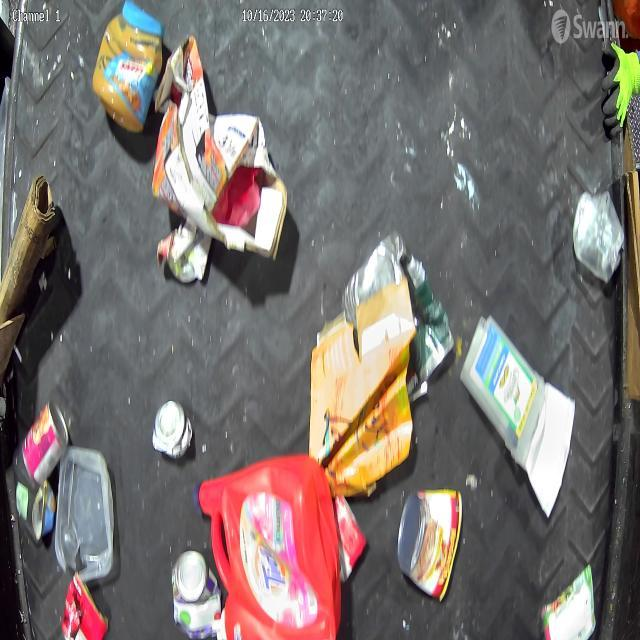can: (397, 482, 462, 608), (18, 397, 72, 494), (168, 544, 220, 640), (14, 467, 59, 549), (151, 392, 194, 470)
non_white_jug: (198, 456, 345, 640)
